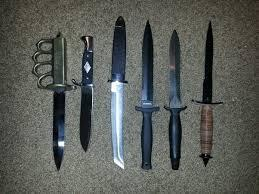Knife: (32, 31, 78, 172), (192, 21, 224, 167), (134, 20, 160, 169), (107, 16, 129, 170), (164, 29, 187, 170), (72, 34, 94, 153)
